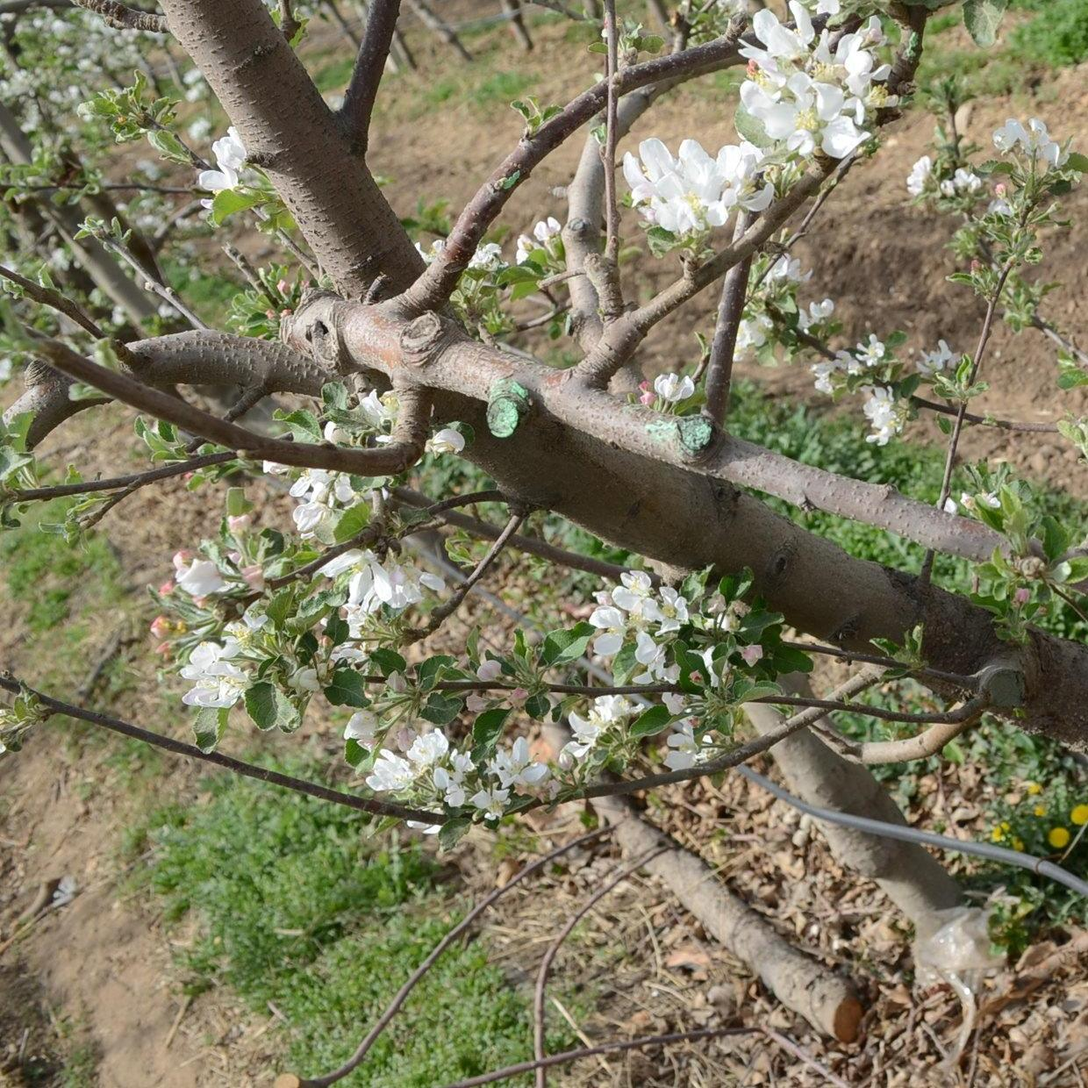apple_flower: (622, 0, 886, 238), (159, 470, 437, 662), (363, 727, 558, 819), (587, 571, 691, 684), (555, 694, 648, 771), (991, 115, 1086, 176), (907, 132, 989, 199), (177, 637, 247, 708), (195, 124, 245, 191), (664, 719, 702, 768)
